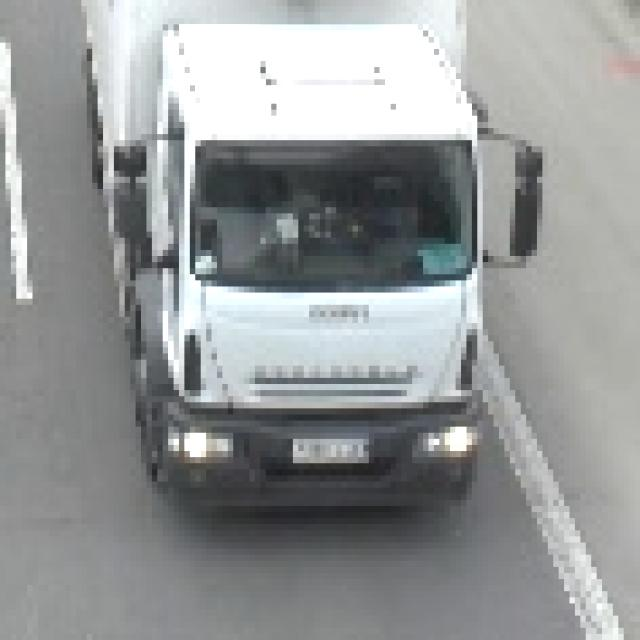truck: (71, 1, 538, 513)
